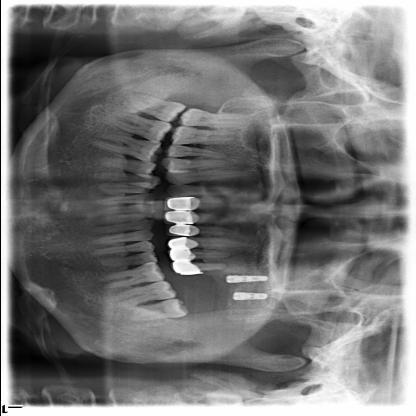ITI: (220, 273, 272, 285), (226, 290, 269, 302)
